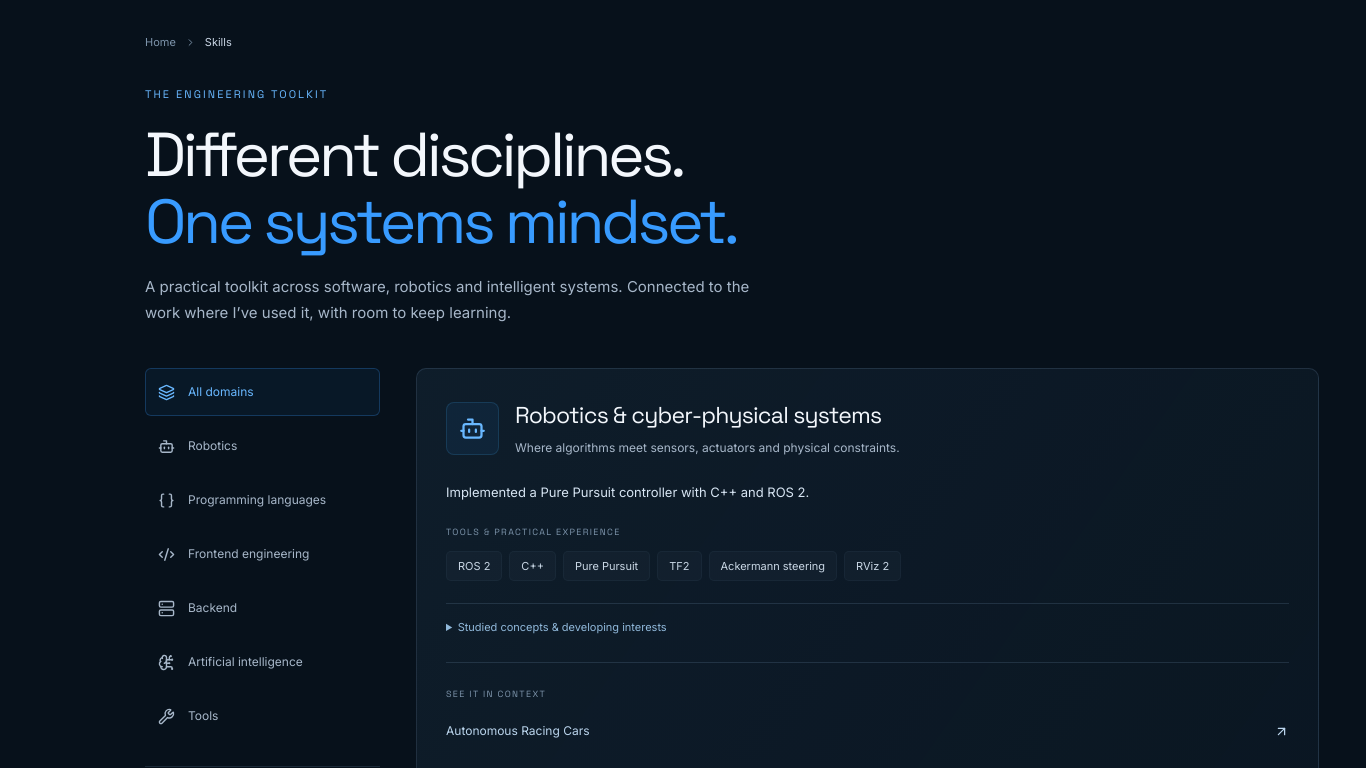
Test: engineering interactions › filters skill domains and exposes related project links
Click the button "Robotics": [262, 446] box [145,422,380,470]
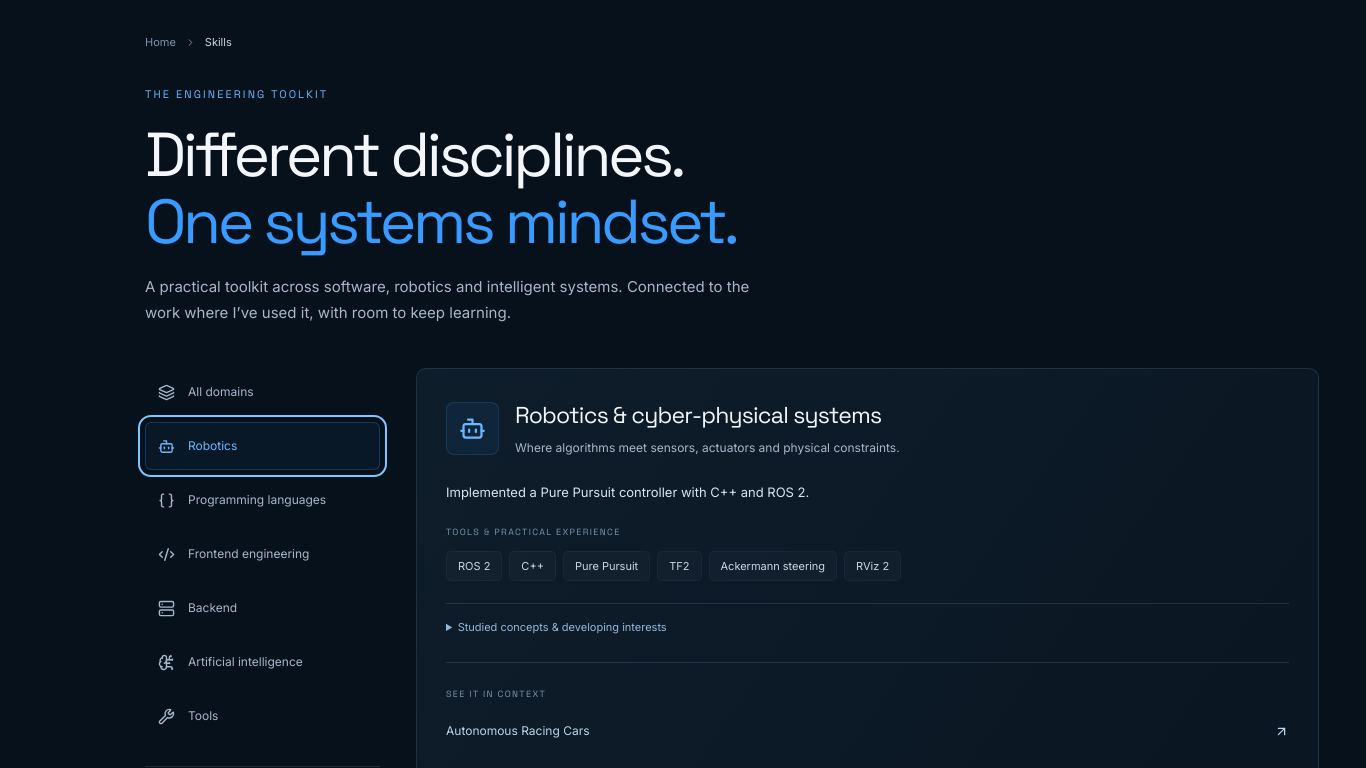
Expected: the heading "Robotics & cyber-physical systems" is shown, [515,398,900,433]
Click the heading "Studied concepts & developing interests": [562, 627] box [458,620,667,634]
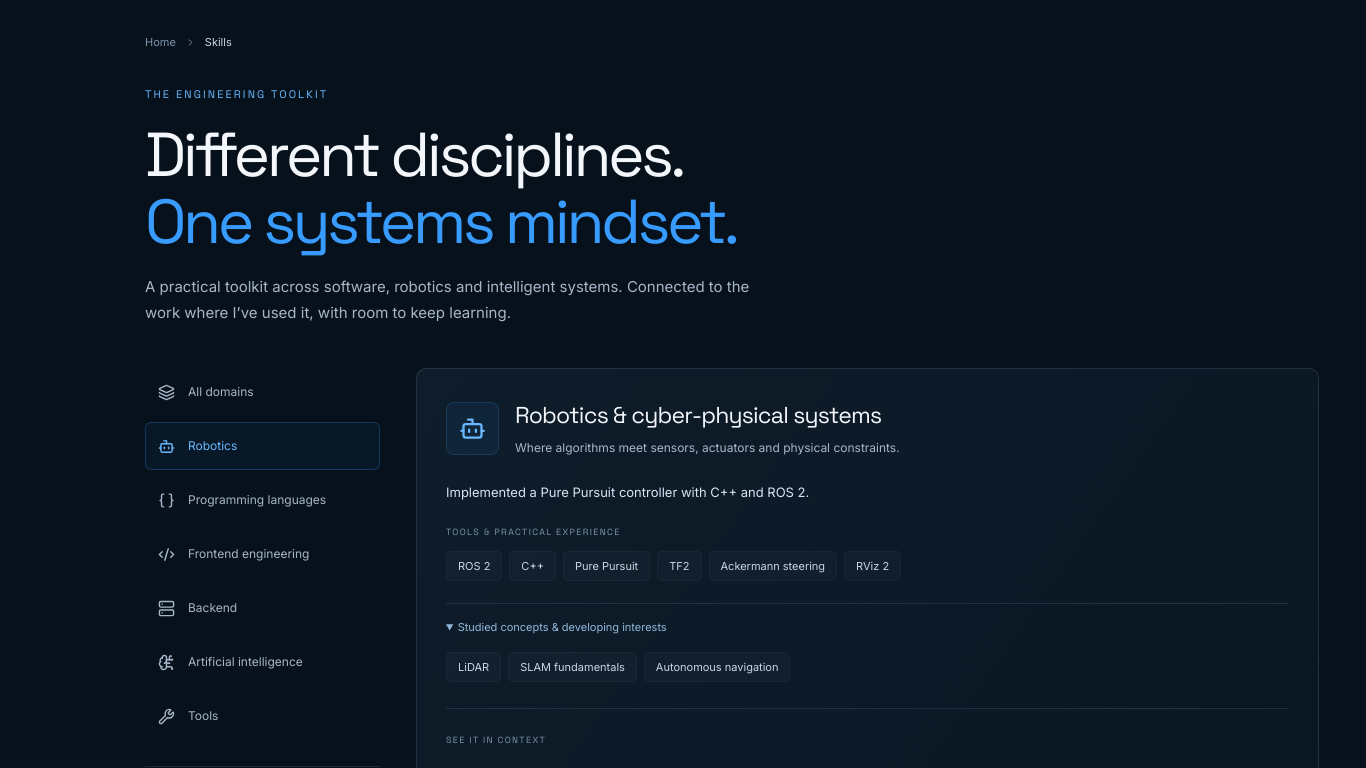
Expected: the text "SLAM fundamentals" is shown, [508,652,637,682]
